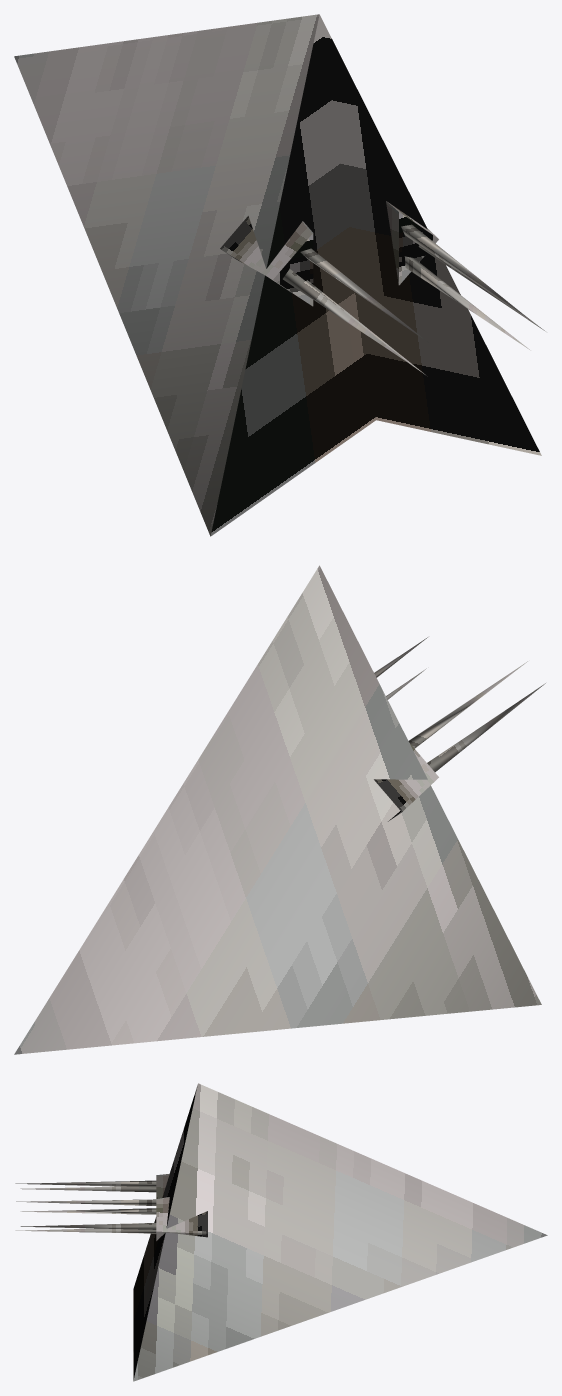
Rendered from hutt_fighter_heavy_weapon3_s04_l3.fbx.
The picture shows the model from 3 angles, top to bottom: view 1: azimuth 30°, elevation 25°; view 2: azimuth 150°, elevation 25°; view 3: azimuth 270°, elevation 25°; orthographic projection. The views are drawn at different scales.
Parts seen in each view (by area): view 1: mesh_node; view 2: mesh_node; view 3: mesh_node.
Part boxes in pixels (x1,y1,x2,y2): mesh_node: (14,14,545,536); mesh_node: (14,565,545,1054); mesh_node: (15,1083,547,1381).
Size of the model in its own units: 1 by 1.27 by 2.44.
Materials: 1 (1 with a texture image).
